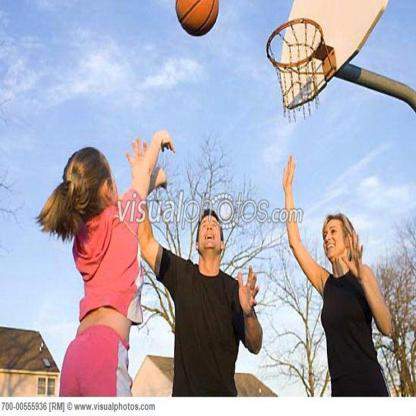face: (325, 220, 347, 260), (199, 215, 222, 253)
